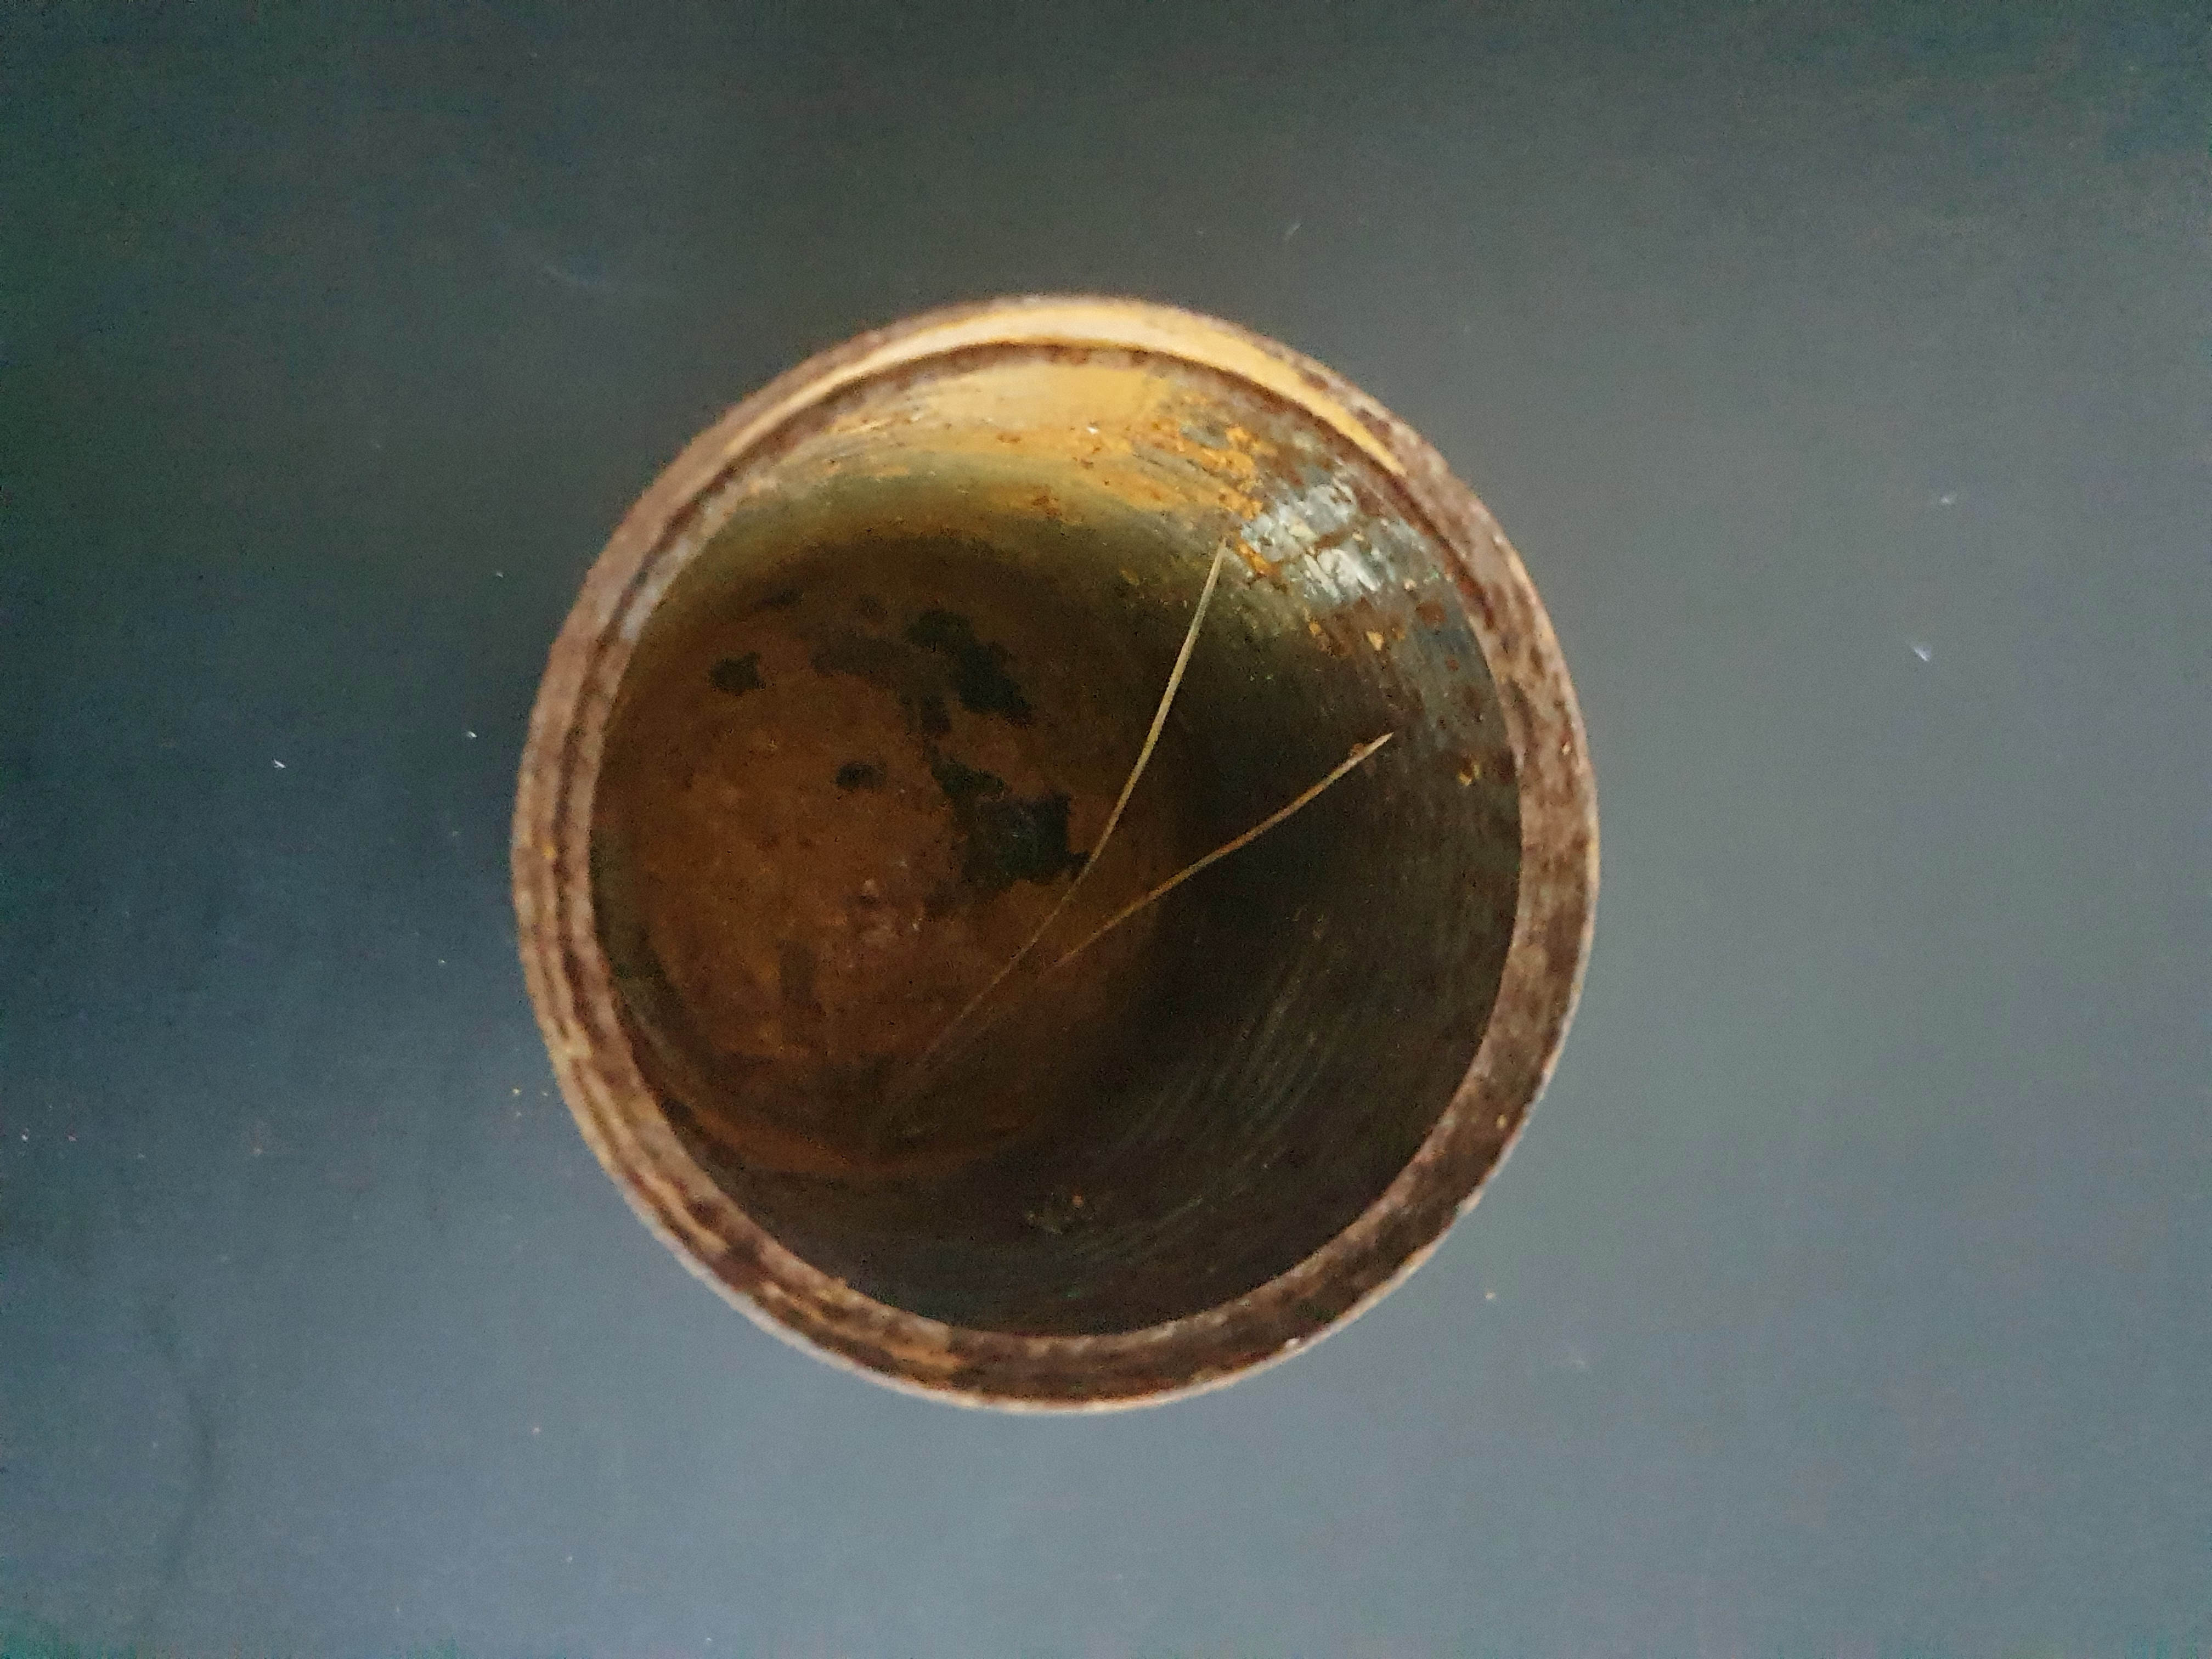metal: (489, 277, 1623, 1481)
